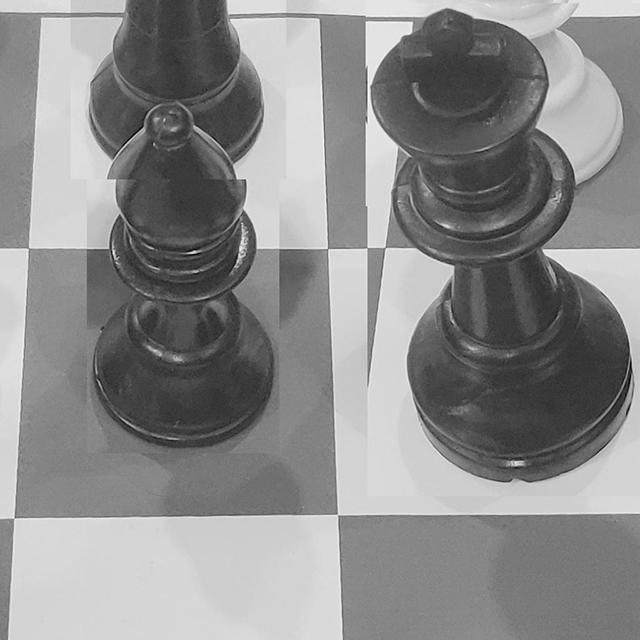black-bishop: (92, 102, 276, 452)
black-king: (369, 8, 636, 480)
